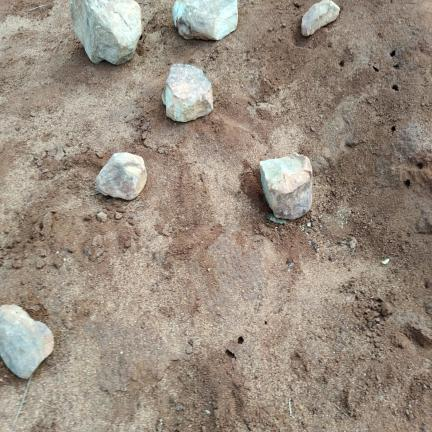Rocks: (71, 0, 141, 64), (0, 305, 53, 378), (260, 153, 312, 219), (162, 64, 213, 122), (173, 0, 238, 39), (96, 153, 146, 200), (302, 0, 339, 36), (381, 301, 392, 316), (93, 235, 103, 247), (97, 211, 107, 222), (12, 259, 22, 268), (349, 238, 357, 249), (115, 212, 122, 219)
